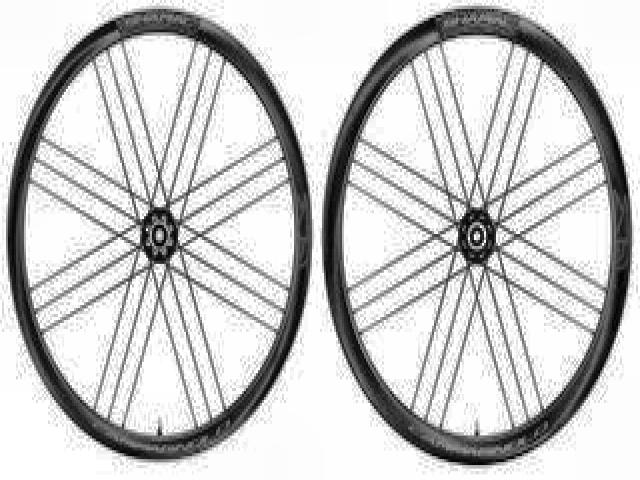wheel: (324, 5, 636, 462), (5, 5, 312, 467)
